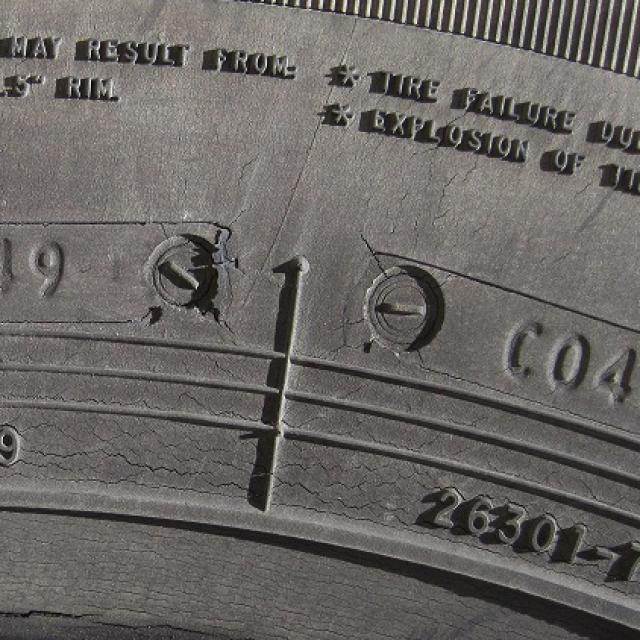Cracks: (0, 205, 640, 639), (394, 87, 502, 203), (231, 149, 266, 191), (572, 176, 598, 201)
